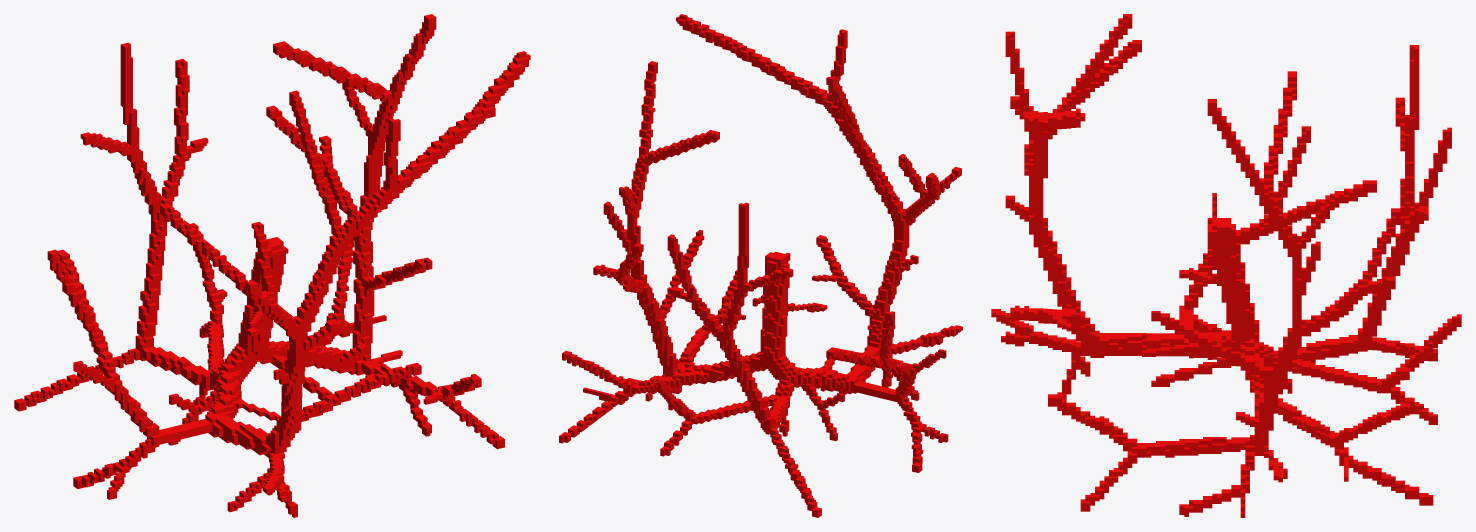
The model's file is ref.obj.
3 renders of one model, left to right at view 1: azimuth 30°, elevation 25°; view 2: azimuth 150°, elevation 25°; view 3: azimuth 270°, elevation 25°, orthographic. The views are drawn at different scales.
Visible parts, largest first — view 1: anObject; view 2: anObject; view 3: anObject.
Boxes of the visible parts, x1,y1,x2,y2 form: anObject: (14, 14, 530, 517); anObject: (559, 14, 962, 517); anObject: (991, 14, 1461, 517).
Bounding box in the file's own units: 100 × 100 × 100.
